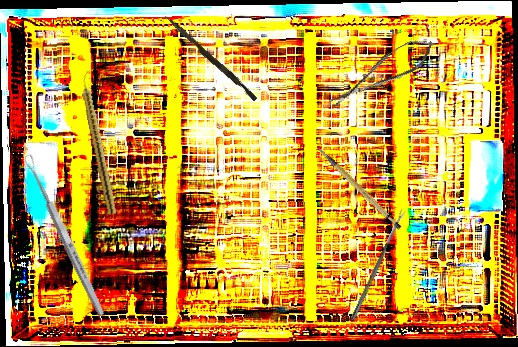Handpiece: (77, 70, 120, 216)
Micro Scissor: (322, 32, 440, 114)
Pusher: (161, 14, 260, 102)
Scalpel Handle: (316, 134, 403, 240)
Surgical Spoon: (22, 152, 107, 319), (349, 209, 407, 322)
